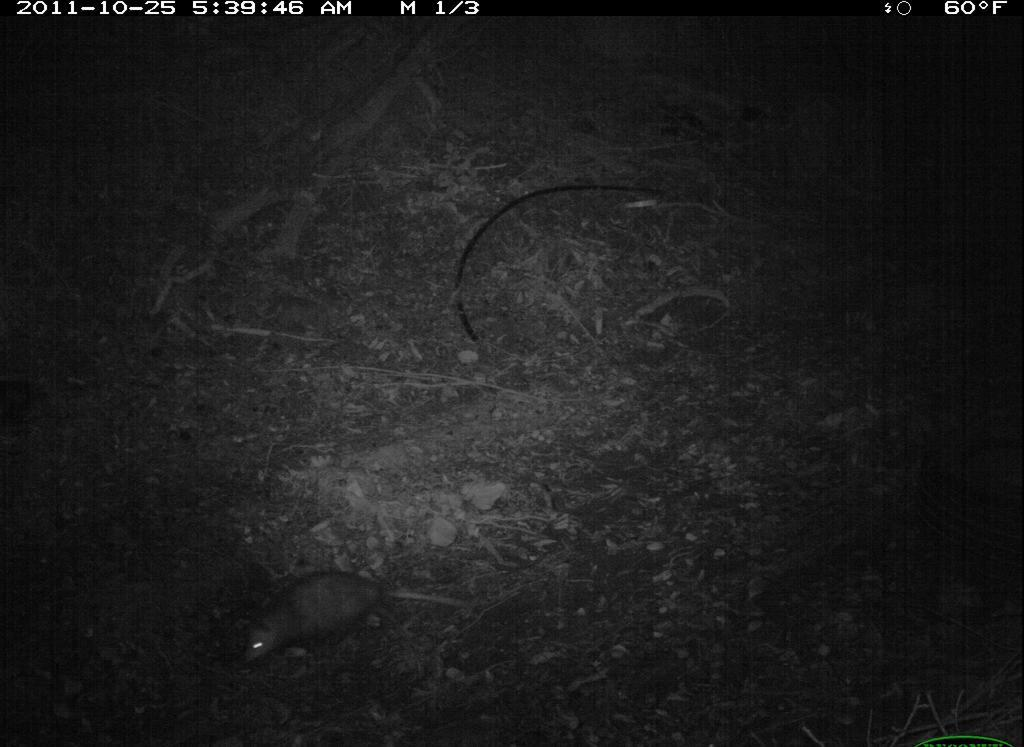opossum: (228, 562, 483, 673)
